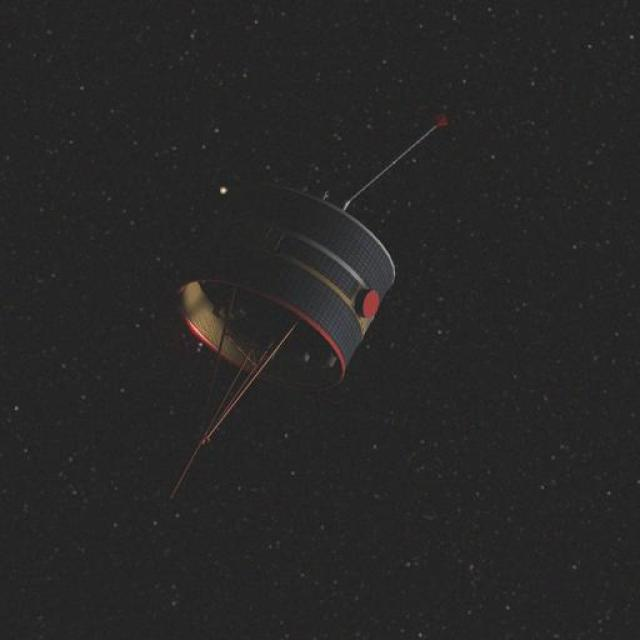double_start: (168, 160, 406, 447)
